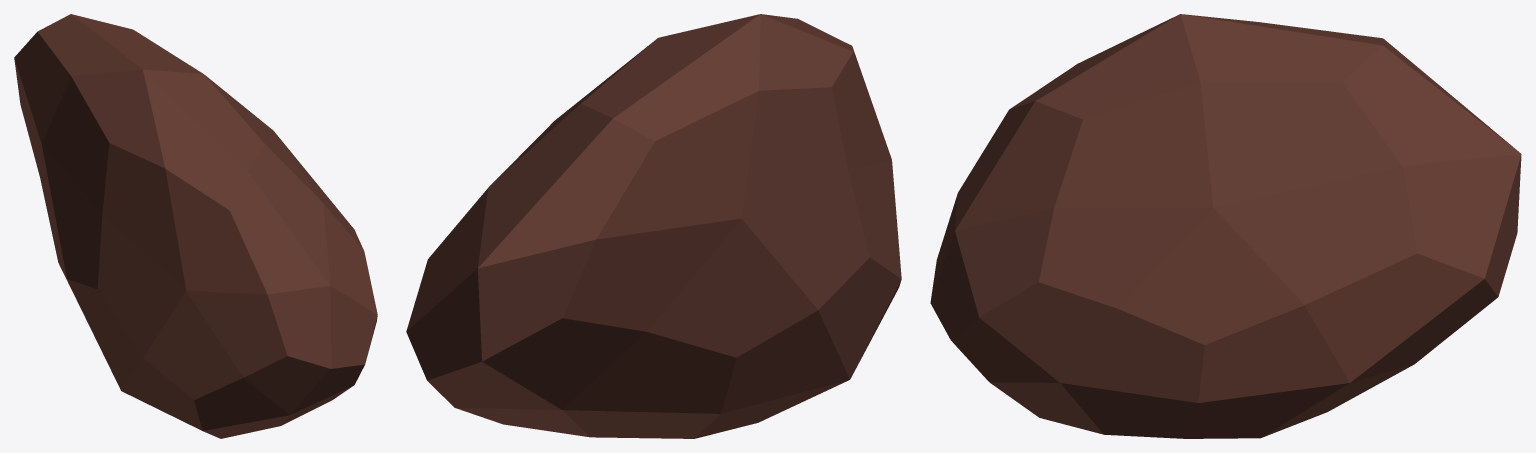
File: stone_1.glb
3 views of the same model, side by side, from view 1: azimuth 30°, elevation 25°; view 2: azimuth 150°, elevation 25°; view 3: azimuth 270°, elevation 25° (orthographic). The views are drawn at different scales.
Visible parts, largest first — view 1: Icosphere; view 2: Icosphere; view 3: Icosphere.
Boxes of the visible parts, x1=… form: Icosphere: x1=14, y1=14, x2=377, y2=438; Icosphere: x1=406, y1=14, x2=901, y2=438; Icosphere: x1=930, y1=14, x2=1521, y2=438.
Bounding box in the file's own units: 1.67 × 2.02 × 2.94.
